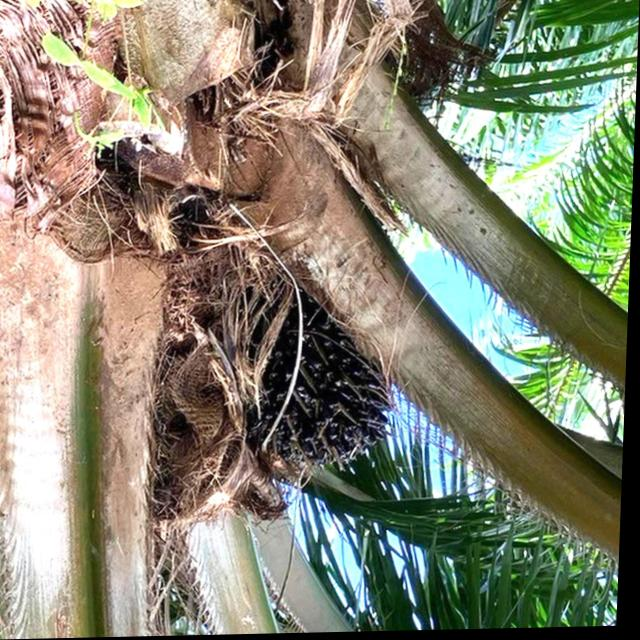unripe: (238, 292, 412, 485)
